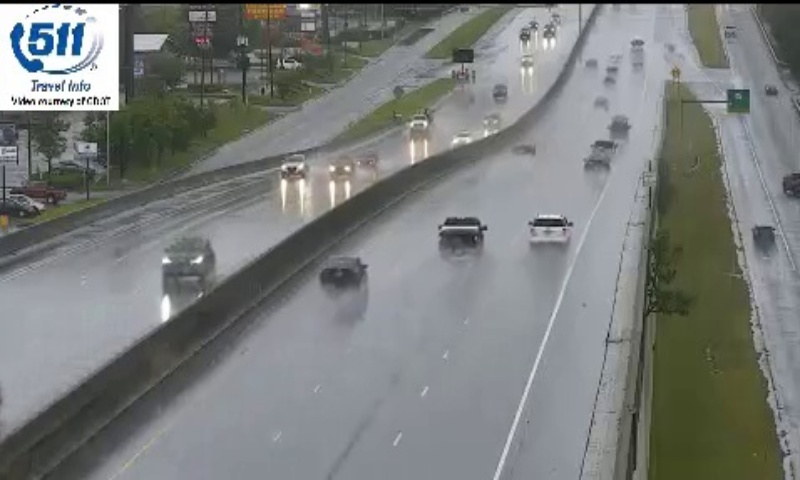car: (438, 217, 483, 255), (319, 255, 364, 289), (528, 213, 569, 249)
